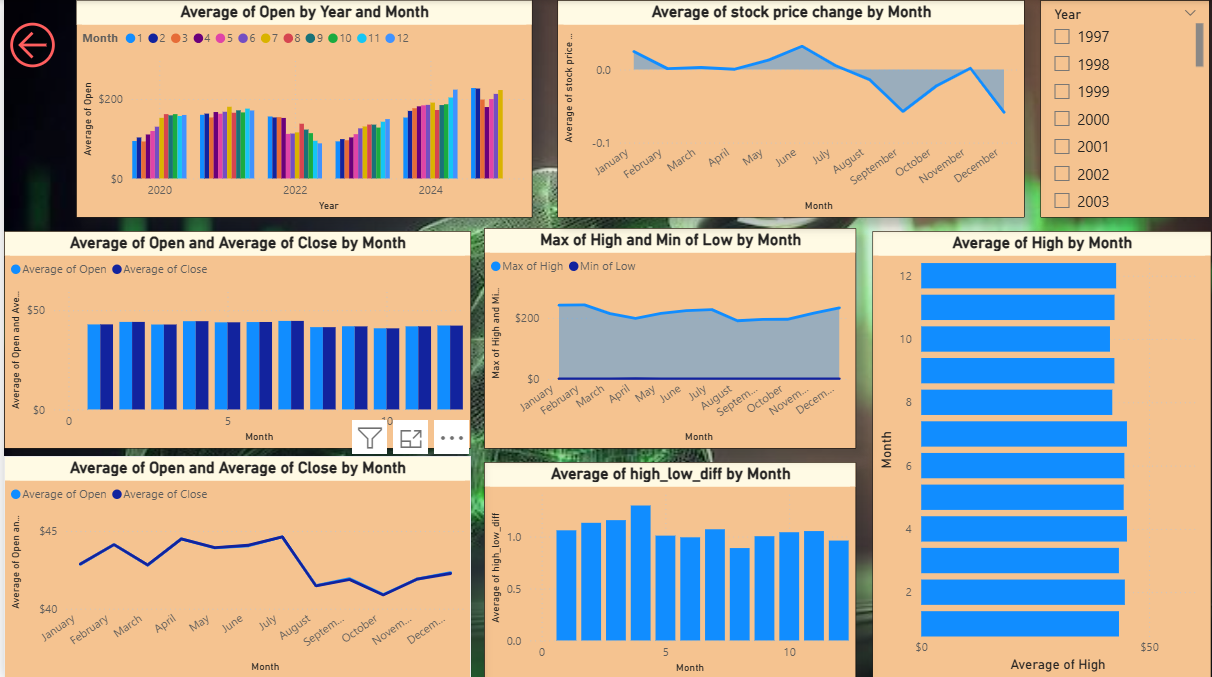

Layout of this report page (visuals, bound fields, positions):
{"tool":"powerbi","page":{"name":"Page 2","canvas":[1280,720],"ordinal":1},"visuals":[{"type":"lineClusteredColumnComboChart","fields":{"Y":["Avg(amazone_after_eda_data.Open)"],"Category":["amazone_after_eda_data.Year"],"Series":["amazone_after_eda_data.Month"]},"box":[75.6,0,483.8,230.6],"z":0},{"type":"lineClusteredColumnComboChart","fields":{"Category":["amazone_after_eda_data.Month"],"Y":["Avg(amazone_after_eda_data.Open)","Avg(amazone_after_eda_data.Close)"]},"box":[0,245.7,495.1,230.6],"z":1000},{"type":"barChart","fields":{"Category":["amazone_after_eda_data.Month"],"Y":["Avg(amazone_after_eda_data.High)"]},"box":[920.3,245.7,359.1,474.3],"z":2000},{"type":"lineClusteredColumnComboChart","fields":{"Category":["amazone_after_eda_data.Month"],"Y":["Avg(amazone_after_eda_data.high_low_diff)"]},"box":[508.4,489.5,395,230.6],"z":3000},{"type":"areaChart","fields":{"Category":["amazone_after_eda_data.Date.Variation.Date Hierarchy.Month"],"Y":["Max(amazone_after_eda_data.High)","Min(amazone_after_eda_data.Low)"]},"box":[508.4,241.9,395,234.3],"z":4000},{"type":"slicer","fields":{"Values":["amazone_after_eda_data.Year"]},"box":[1099.9,0,179.5,230.6],"z":5000},{"type":"lineChart","fields":{"Category":["amazone_after_eda_data.Date.Variation.Date Hierarchy.Month"],"Y":["Avg(amazone_after_eda_data.Open)","Avg(amazone_after_eda_data.Close)"]},"box":[0,483.8,495.1,236.2],"z":6000},{"type":"areaChart","fields":{"Y":["Avg(amazone_after_eda_data.gain-loss)"],"Category":["amazone_after_eda_data.Date.Variation.Date Hierarchy.Month"]},"box":[587.7,0,495.1,230.6],"z":7000},{"type":"actionButton","box":[0,17,124.7,60.5],"z":8000}]}

Visuals, with their boxes in screenshot pixels (x1, y1, x2, y2), scaled from the page's 1280x720 canvas onto the 1212x677 screenshot:
lineClusteredColumnComboChart - Avg(amazone_after_eda_data.Open) x amazone_after_eda_data.Year: x1=72, y1=0, x2=530, y2=217
lineClusteredColumnComboChart - amazone_after_eda_data.Month x Avg(amazone_after_eda_data.Open): x1=0, y1=231, x2=469, y2=448
barChart - amazone_after_eda_data.Month x Avg(amazone_after_eda_data.High): x1=871, y1=231, x2=1211, y2=676
lineClusteredColumnComboChart - amazone_after_eda_data.Month x Avg(amazone_after_eda_data.high_low_diff): x1=481, y1=460, x2=855, y2=676
areaChart - amazone_after_eda_data.Date.Variation.Date Hierarchy.Month x Max(amazone_after_eda_data.High): x1=481, y1=227, x2=855, y2=448
slicer - amazone_after_eda_data.Year: x1=1041, y1=0, x2=1211, y2=217
lineChart - amazone_after_eda_data.Date.Variation.Date Hierarchy.Month x Avg(amazone_after_eda_data.Open): x1=0, y1=455, x2=469, y2=676
areaChart - Avg(amazone_after_eda_data.gain-loss) x amazone_after_eda_data.Date.Variation.Date Hierarchy.Month: x1=556, y1=0, x2=1025, y2=217
actionButton: x1=0, y1=16, x2=118, y2=73
